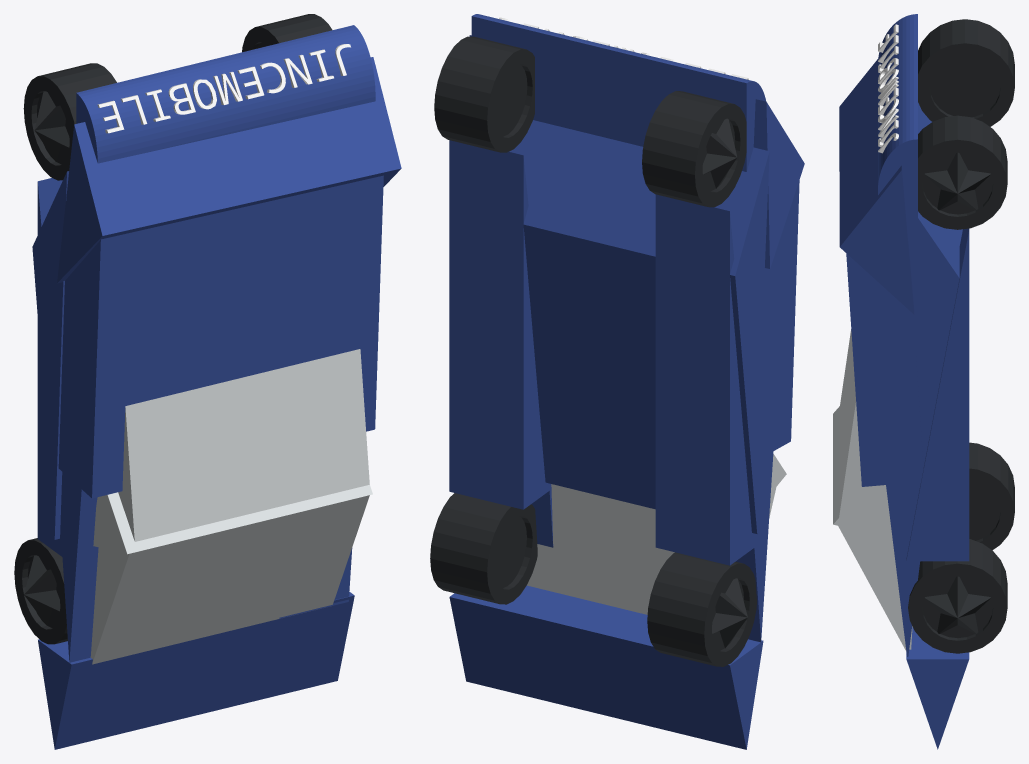
Rendered from tinker.obj.
3 views of the same model, side by side, from view 1: azimuth 30°, elevation 25°; view 2: azimuth 150°, elevation 25°; view 3: azimuth 270°, elevation 25° (orthographic). The views are drawn at different scales.
Visible parts, largest first — view 1: group_0_3888547, group_0_14541540, group_0_2829873, group_0_16448250; view 2: group_0_3888547, group_0_2829873, group_0_14541540; view 3: group_0_3888547, group_0_2829873, group_0_14541540, group_0_16448250.
Boxes of the visible parts, left/top/right/bottom form: group_0_3888547: left=32, top=25, right=401, bottom=749; group_0_14541540: left=90, top=349, right=372, bottom=664; group_0_2829873: left=14, top=14, right=332, bottom=644; group_0_16448250: left=97, top=44, right=350, bottom=133; group_0_3888547: left=449, top=14, right=804, bottom=749; group_0_2829873: left=430, top=36, right=756, bottom=666; group_0_14541540: left=527, top=454, right=786, bottom=614; group_0_3888547: left=839, top=14, right=969, bottom=749; group_0_2829873: left=908, top=19, right=1014, bottom=653; group_0_14541540: left=833, top=329, right=912, bottom=650; group_0_16448250: left=878, top=24, right=898, bottom=153.
Size of the model in its own units: 59 by 118 by 31.84.
